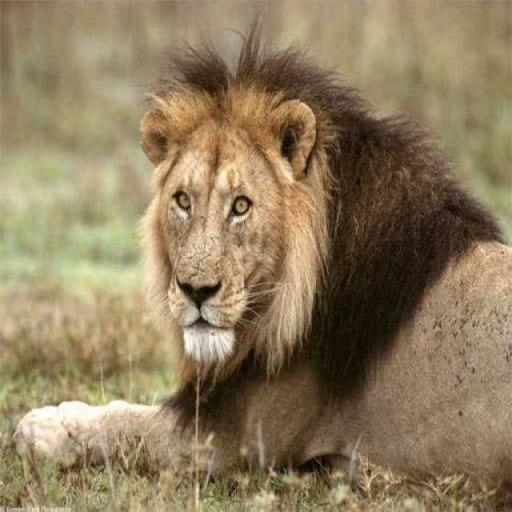Lion: (10, 14, 511, 508)
